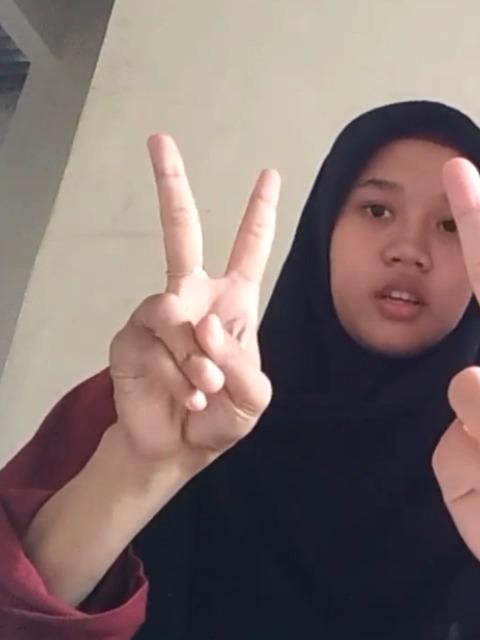V: (99, 116, 283, 452)
